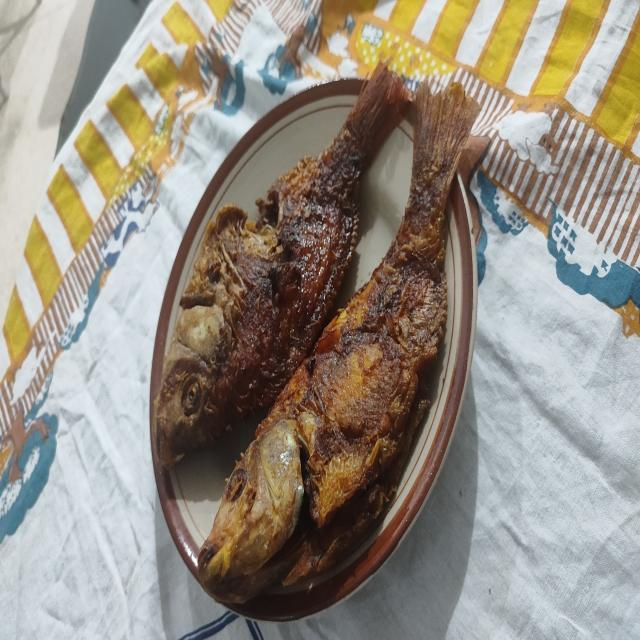ikan_mujair: (198, 80, 479, 602), (151, 63, 406, 467)
